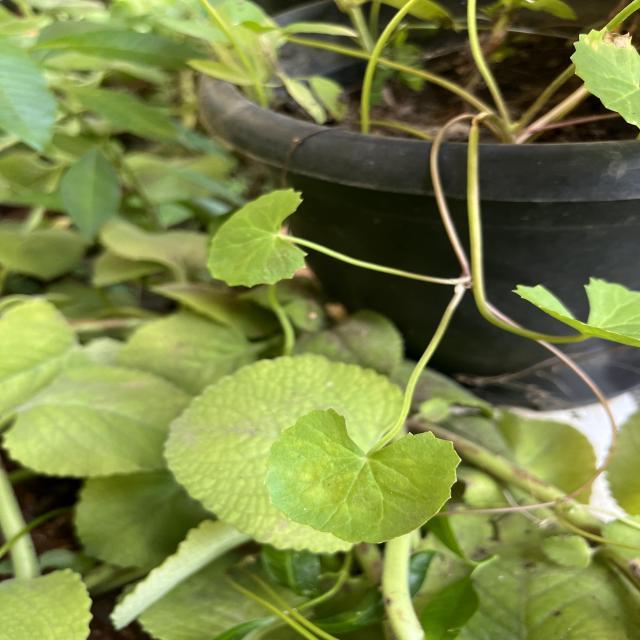Centella asiatica: (260, 402, 466, 548)
